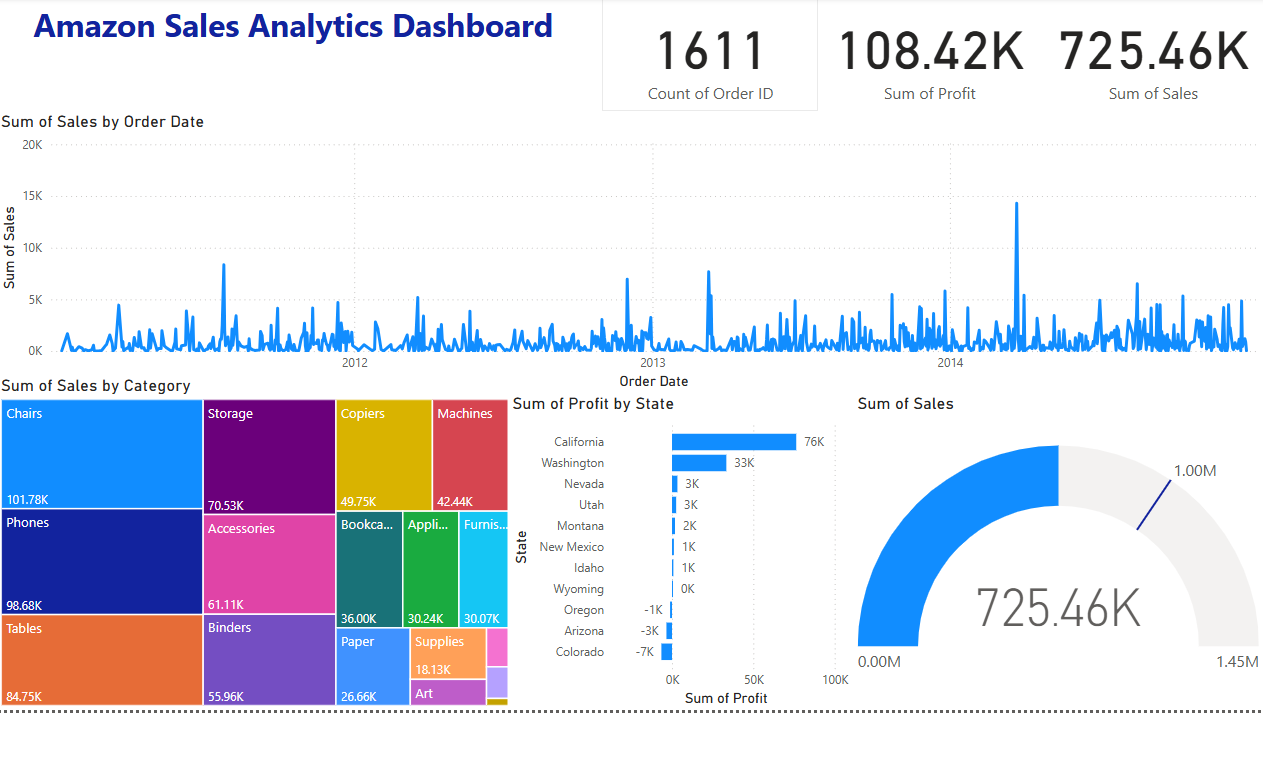

What the dashboard file says about the page in this screenshot:
{"tool":"powerbi","page":{"name":"Page 1","canvas":[1280,720],"ordinal":0},"visuals":[{"type":"card","fields":{"Values":["Sum(Walmart.Sales)"]},"box":[1055,0,225,115],"z":0},{"type":"card","fields":{"Values":["Sum(Walmart.Profit)"]},"box":[830,0,225,115],"z":1},{"type":"card","fields":{"Values":["Count(Walmart.Order ID)"]},"box":[611.7,0,218.3,115],"z":2},{"type":"lineChart","fields":{"Category":["Walmart.Order Date"],"Y":["Sum(Walmart.Sales)"]},"box":[0,115,1280,285],"z":3},{"type":"treemap","fields":{"Group":["Walmart.Category"],"Values":["Sum(Walmart.Sales)"]},"box":[0,381.7,528.3,338.3],"z":4},{"type":"barChart","fields":{"Category":["Walmart.State"],"Y":["Sum(Walmart.Profit)"]},"box":[516.7,400,350,320],"z":5},{"type":"gauge","fields":{"Y":["Sum(Walmart.Sales)"]},"box":[865,400,415,320],"z":6},{"type":"textbox","box":[0,0,600,96.7],"z":7}]}

Visuals, with their boxes on the page's 1280x720 design canvas (x1, y1, x2, y2). These are canvas units, not pixel positions in the 1263x772 screenshot, which may show the page scaled, cropped or inside an application window:
card - Sum(Walmart.Sales): select_region(1055, 0, 1280, 115)
card - Sum(Walmart.Profit): select_region(830, 0, 1055, 115)
card - Count(Walmart.Order ID): select_region(612, 0, 830, 115)
lineChart - Walmart.Order Date x Sum(Walmart.Sales): select_region(0, 115, 1280, 400)
treemap - Walmart.Category x Sum(Walmart.Sales): select_region(0, 382, 528, 720)
barChart - Walmart.State x Sum(Walmart.Profit): select_region(517, 400, 867, 720)
gauge - Sum(Walmart.Sales): select_region(865, 400, 1280, 720)
textbox: select_region(0, 0, 600, 97)
